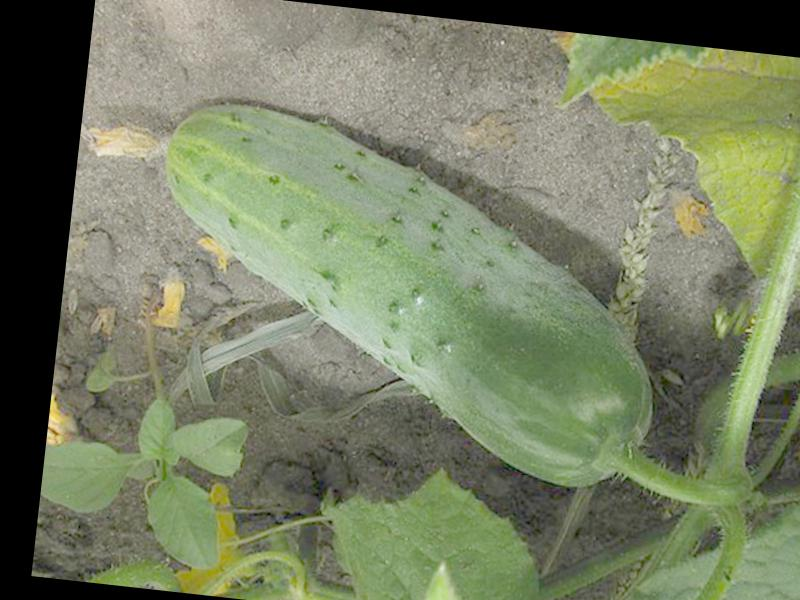Cucumber: (55, 85, 680, 493)
